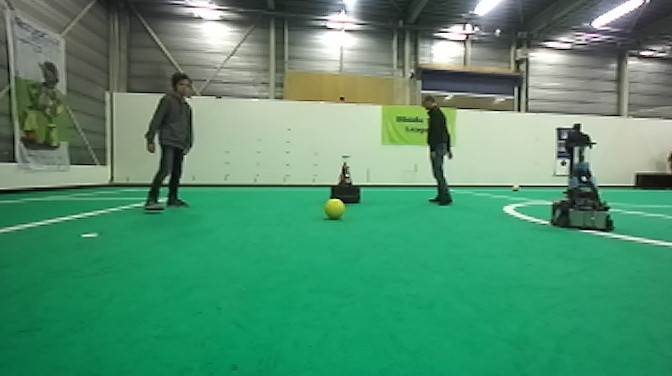ball: (323, 198, 347, 219), (509, 182, 521, 193)
human: (142, 70, 197, 213), (410, 93, 455, 208), (563, 121, 591, 188)
robot: (549, 140, 616, 233), (329, 152, 362, 206)
